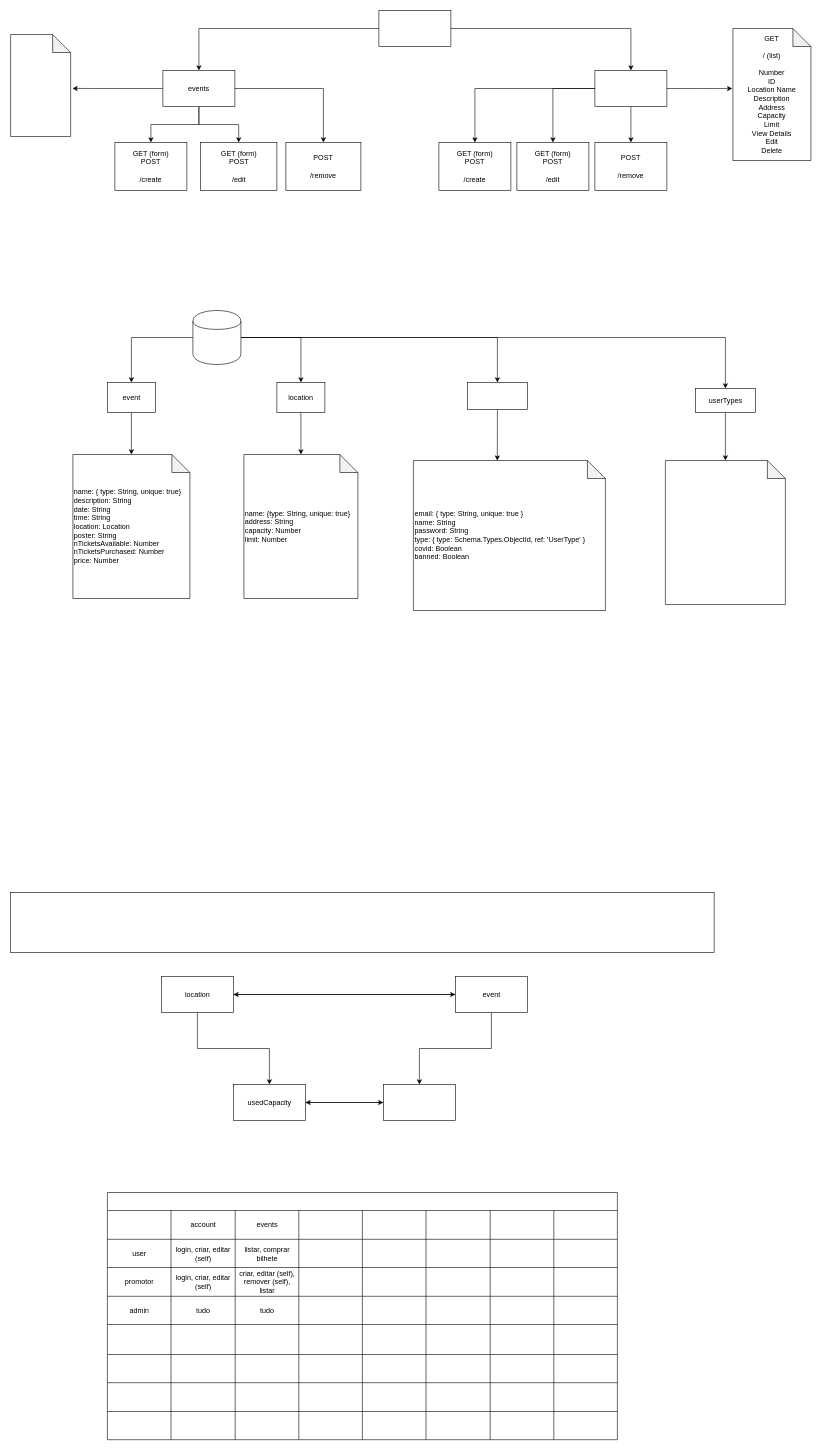
This 821x1450 diagram has some shape labels left out. Each missing label, with the box of its shape:
GET /: (378, 10, 451, 46)
GET / (list) Number ID Event Name Description View Details Edit Delete: (10, 34, 71, 136)
locations: (594, 70, 667, 106)
MongoDB: (192, 310, 241, 364)
perms TODO: (107, 1192, 617, 1440)
ticketsPurchased: (383, 1084, 455, 1120)
TODO: (10, 892, 714, 952)
type: { type: String, unique:true}: (665, 460, 785, 604)
users: (467, 382, 527, 410)
